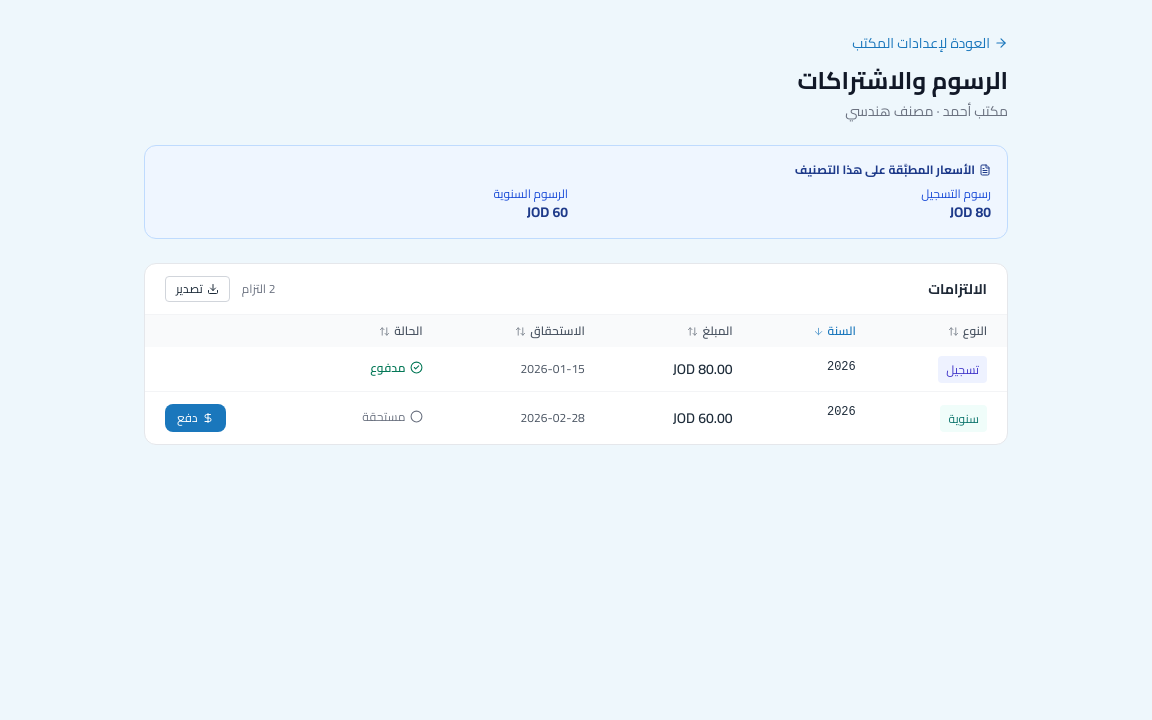
Scenario: OfficeDues (JORD-79 UI) › shows a pay button on unpaid rows and opens the modal on click
Click the button with test id "pay-btn-2": (195, 418) [165,404,226,432]
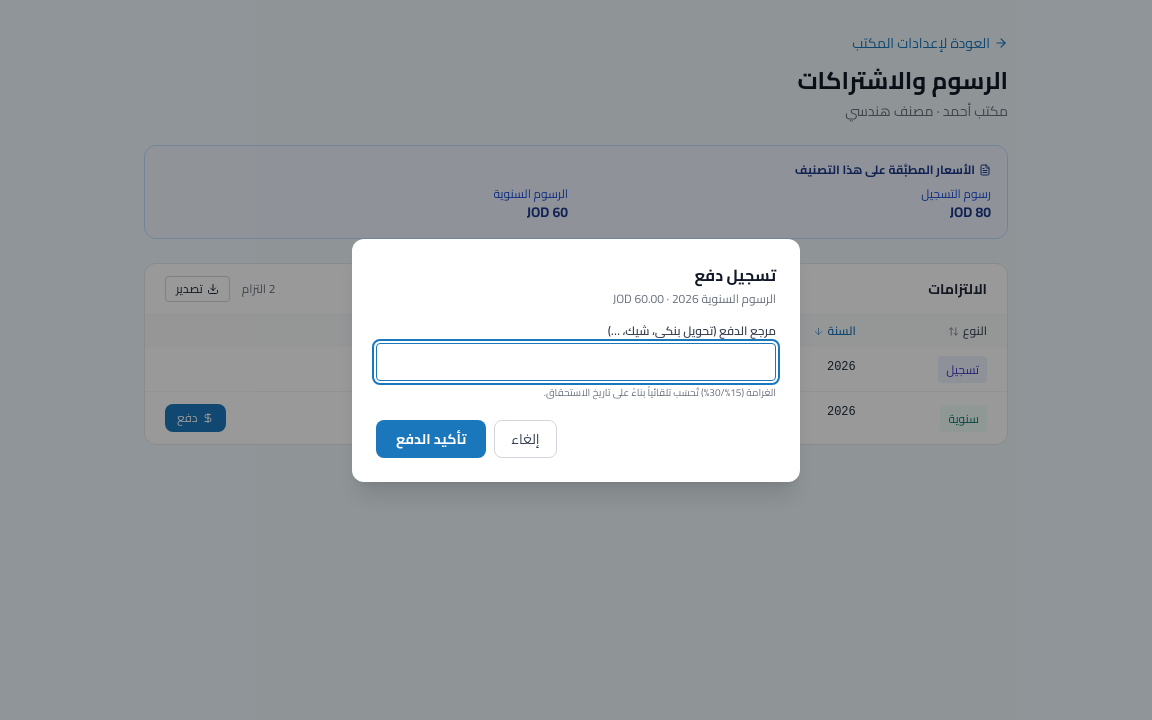
Now the dialog with test id "pay-modal" is shown
Now the field with test id "pay-reference-input" is shown, box [376,342,776,380]
